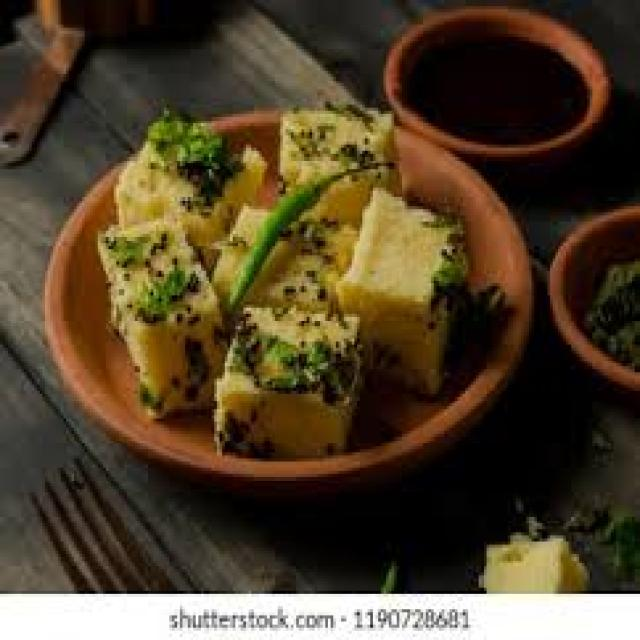DHOKLA: (339, 188, 465, 391), (100, 206, 222, 409), (214, 308, 360, 449), (119, 108, 264, 246), (278, 105, 391, 185)
